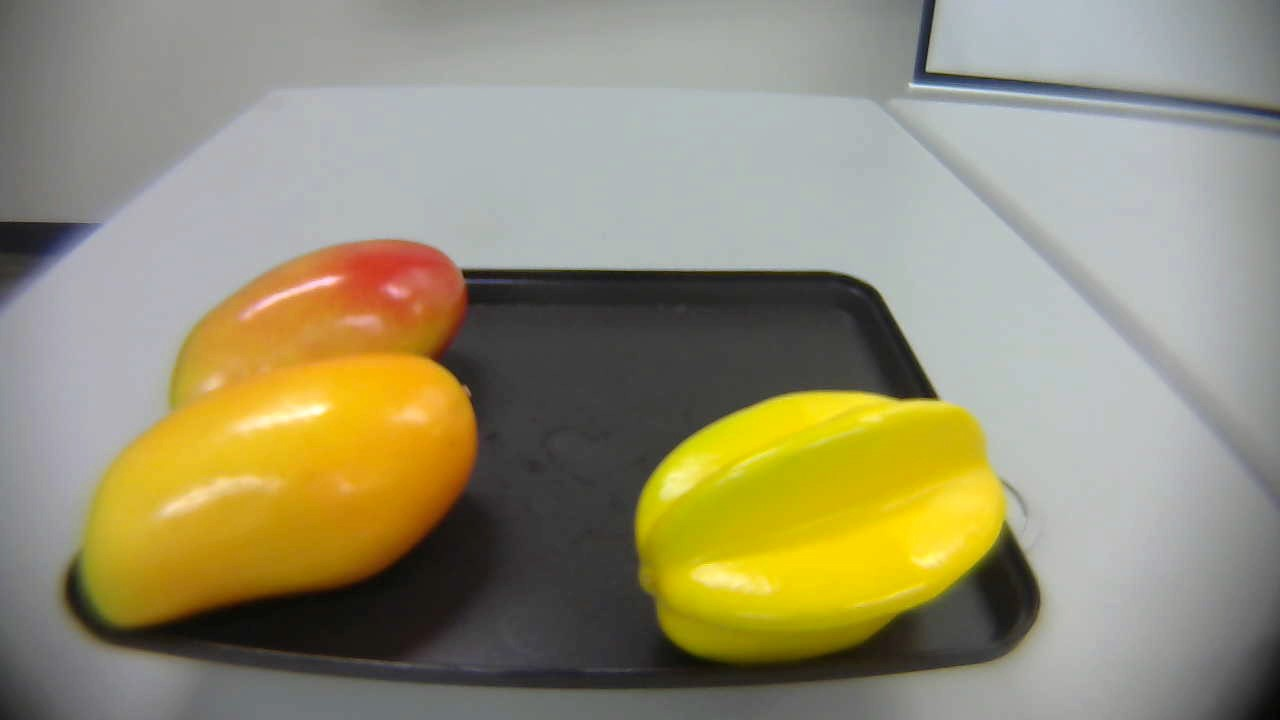red mango: (163, 237, 477, 420)
star fruit: (612, 386, 1025, 661)
yellow mango: (68, 345, 481, 632)
